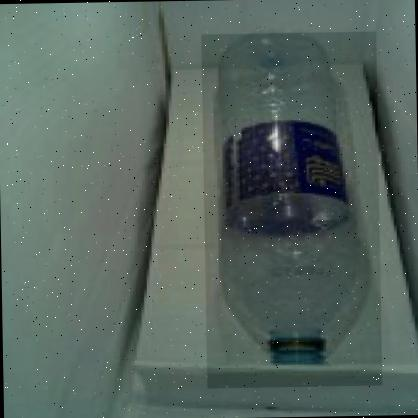bottle: (201, 31, 382, 388)
label: (217, 120, 352, 214)
